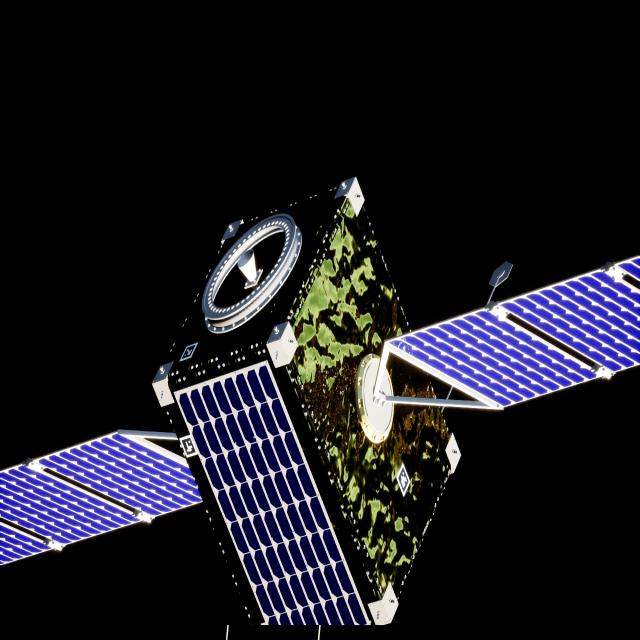satellite: (0, 178, 640, 629)
